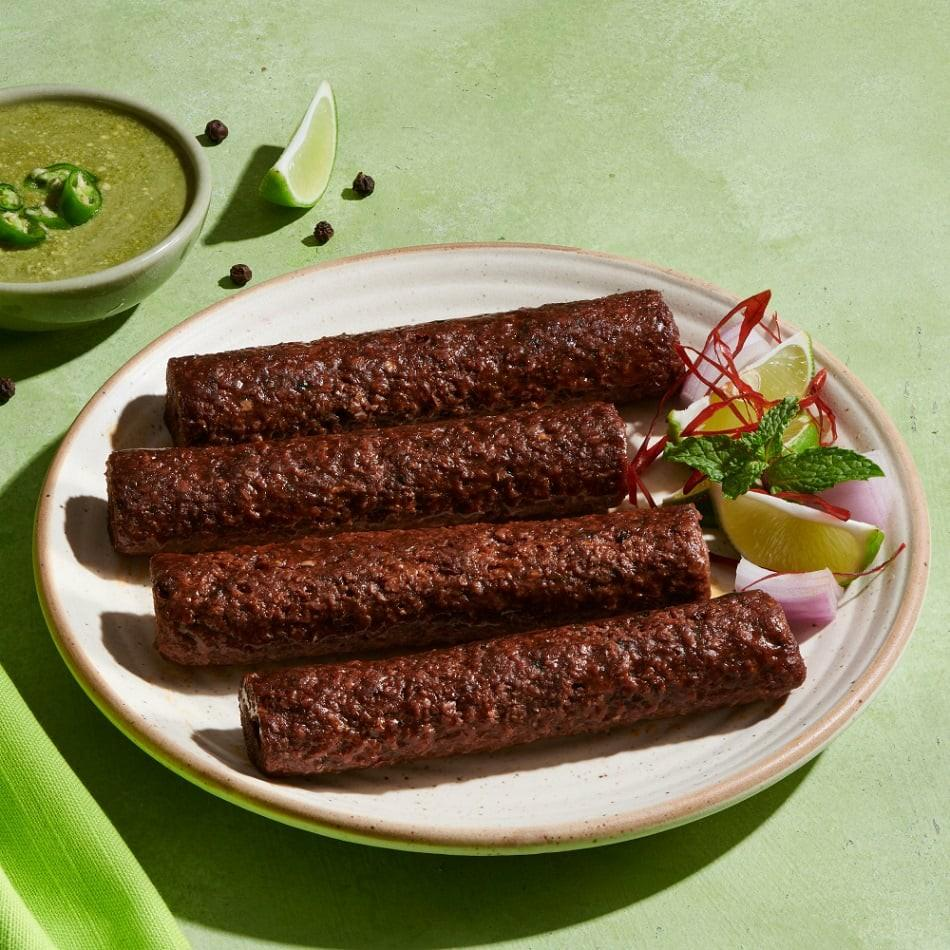GreenChutney: (0, 103, 189, 283)
Kebab: (237, 588, 808, 777), (153, 506, 713, 665), (165, 288, 702, 447), (110, 401, 635, 556)
